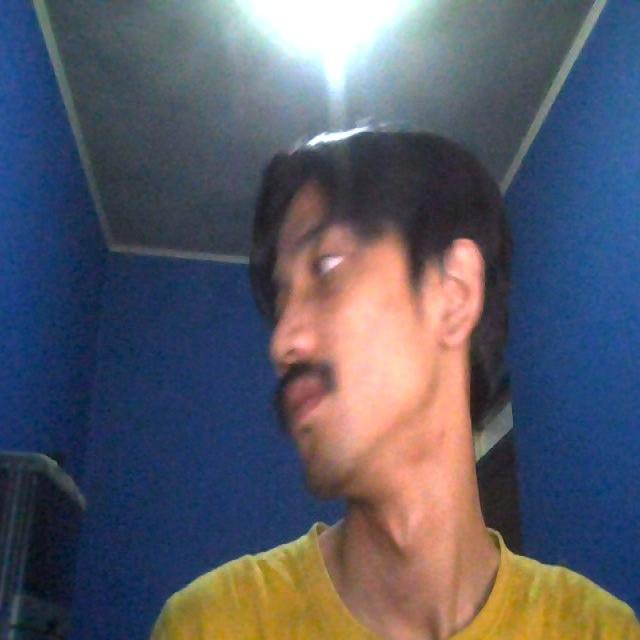Melihat kekanan: (223, 124, 525, 488)
